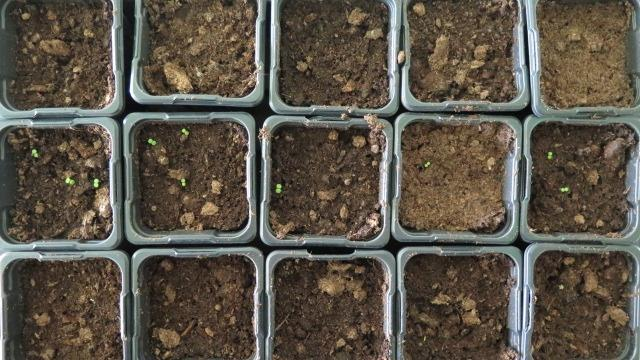weed: (272, 181, 283, 193), (144, 136, 158, 145), (62, 176, 76, 184), (178, 127, 191, 135), (177, 176, 187, 186), (544, 149, 553, 159), (555, 185, 570, 191), (421, 159, 431, 167), (91, 177, 99, 187), (29, 148, 39, 156)
